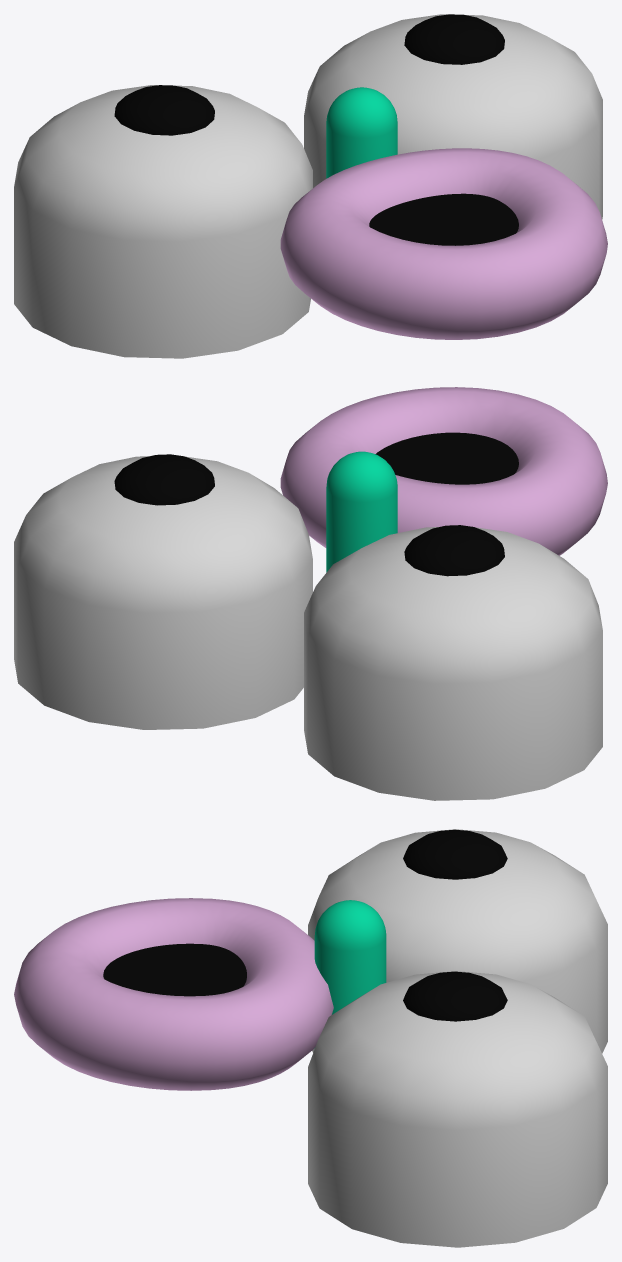
The picture shows the model from 3 angles, top to bottom: view 1: azimuth 30°, elevation 25°; view 2: azimuth 150°, elevation 25°; view 3: azimuth 270°, elevation 25°; orthographic projection.
Parts seen in each view (by area): view 1: BezierCircle_001; view 2: BezierCircle_001; view 3: BezierCircle_001.
Part boxes in pixels (left/top/right/bottom): BezierCircle_001: left=14, top=14, right=607, bottom=358; BezierCircle_001: left=14, top=387, right=607, bottom=800; BezierCircle_001: left=14, top=829, right=607, bottom=1247.
Size of the model in its own units: 0.9298 by 0.8648 by 0.3368.
